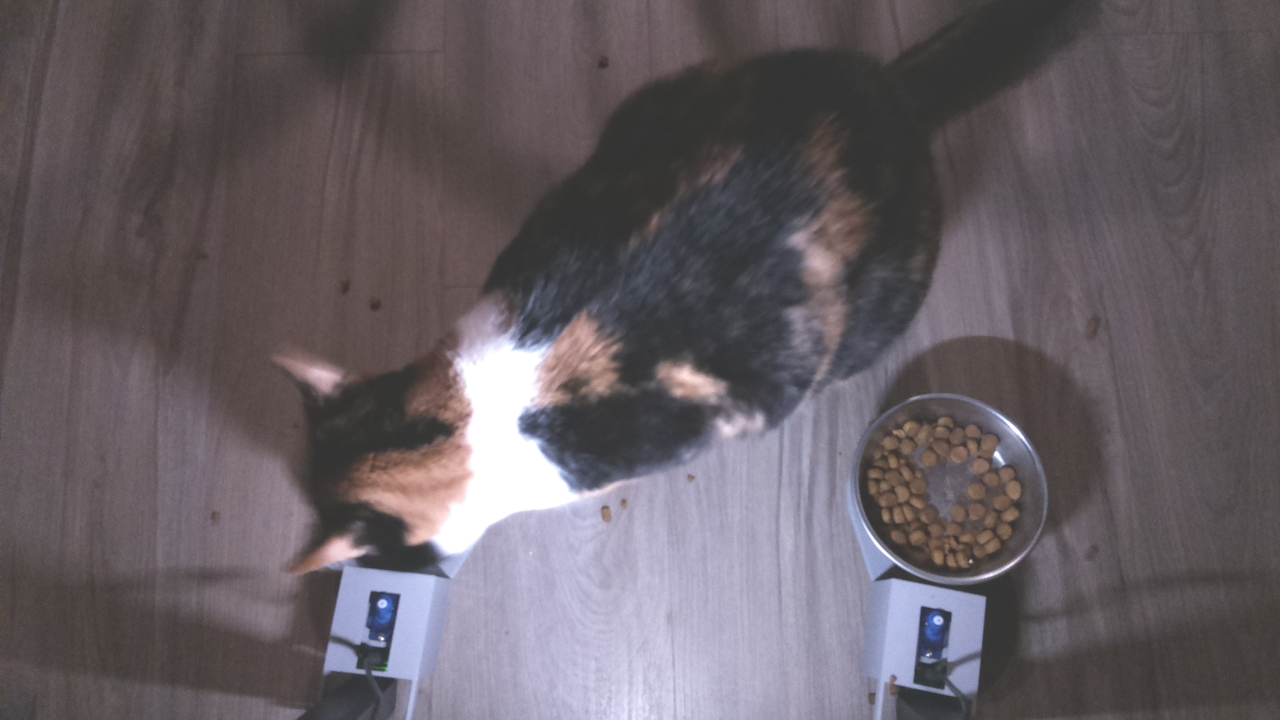bella_eating: (258, 307, 585, 591)
open_bowl: (851, 386, 1050, 584)
